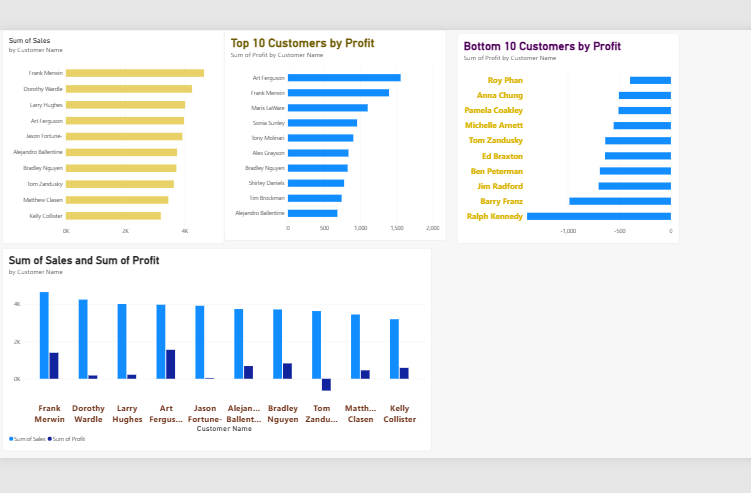

This screenshot's page, from the dashboard's own definition file:
{"tool":"powerbi","page":{"name":"Customer Analysis","canvas":[1920,1080],"ordinal":1},"visuals":[{"type":"clusteredBarChart","fields":{"Category":["Retail_Superstore.Customer Name"],"Y":["Sum(Retail_Superstore.Sales)"]},"box":[10.6,0,559.9,538.8],"z":0},{"type":"clusteredBarChart","title":"Top 10 Customers by Profit","fields":{"Category":["Retail_Superstore.Customer Name"],"Y":["Sum(Retail_Superstore.Profit)"]},"box":[570.5,0,560,531],"z":1000},{"type":"clusteredBarChart","title":"Bottom 10 Customers by Profit","fields":{"Category":["Retail_Superstore.Customer Name"],"Y":["Sum(Retail_Superstore.Profit)"]},"box":[1156.8,7.9,560,531],"z":2000},{"type":"clusteredColumnChart","fields":{"Category":["Retail_Superstore.Customer Name"],"Y":["Sum(Retail_Superstore.Sales)","Sum(Retail_Superstore.Profit)"]},"box":[10.6,549.3,1082.8,512.4],"z":3000}]}

Visuals, with their boxes on the page's 1920x1080 design canvas (x1, y1, x2, y2). These are canvas units, not pixel positions in the 751x493 screenshot, which may show the page scaled, cropped or inside an application window:
clusteredBarChart - Retail_Superstore.Customer Name x Sum(Retail_Superstore.Sales): x1=11 y1=0 x2=570 y2=539
"Top 10 Customers by Profit" clusteredBarChart: x1=570 y1=0 x2=1130 y2=531
"Bottom 10 Customers by Profit" clusteredBarChart: x1=1157 y1=8 x2=1717 y2=539
clusteredColumnChart - Retail_Superstore.Customer Name x Sum(Retail_Superstore.Sales): x1=11 y1=549 x2=1093 y2=1062
